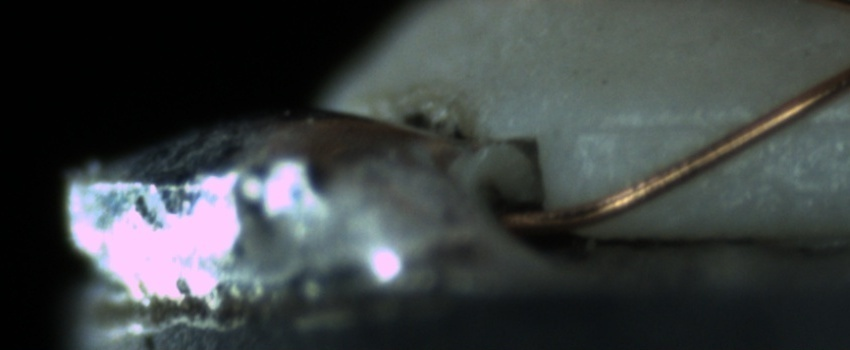DL: (580, 94, 846, 154)
